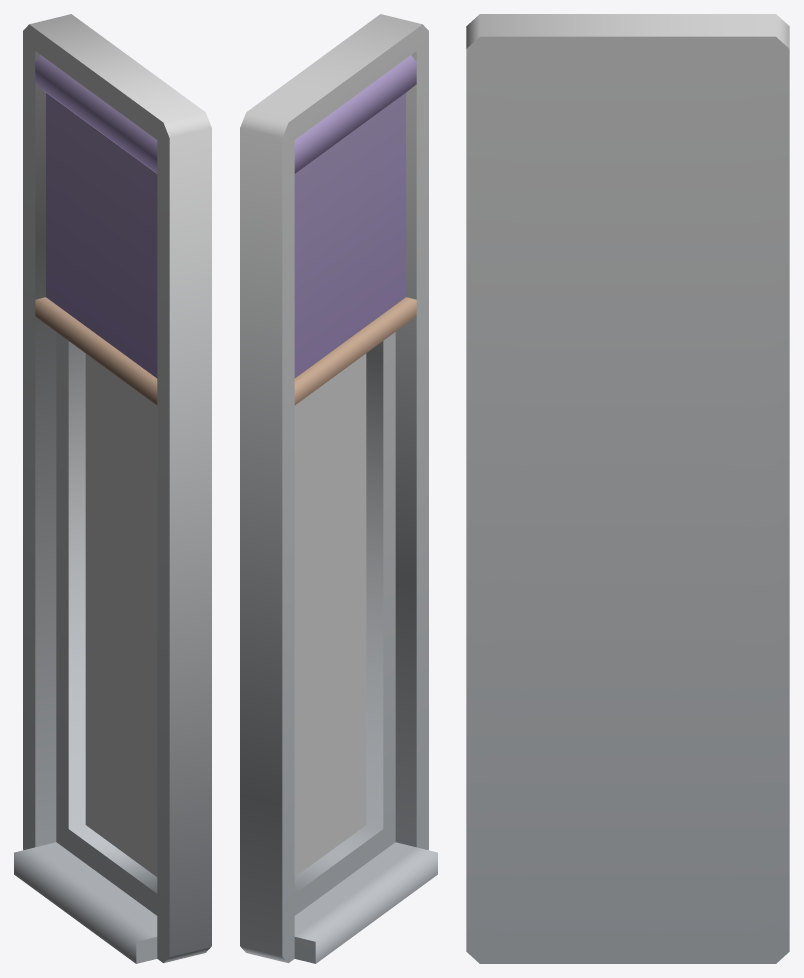
Rendered from window-shutters-tall (%wall).glb.
The picture shows the model from 3 angles, left to right: view 1: azimuth 30°, elevation 25°; view 2: azimuth 150°, elevation 25°; view 3: azimuth 270°, elevation 25°; orthographic projection. The views are drawn at different scales.
Visible parts, largest first — view 1: window-shutters-tall (%wall); view 2: window-shutters-tall (%wall); view 3: window-shutters-tall (%wall).
Boxes of the visible parts, x1,y1,x2,y2 form: window-shutters-tall (%wall): [14, 14, 211, 963]; window-shutters-tall (%wall): [240, 14, 437, 963]; window-shutters-tall (%wall): [466, 14, 789, 963].
Size of the model in its own units: 0.15 by 1.9 by 0.6.
